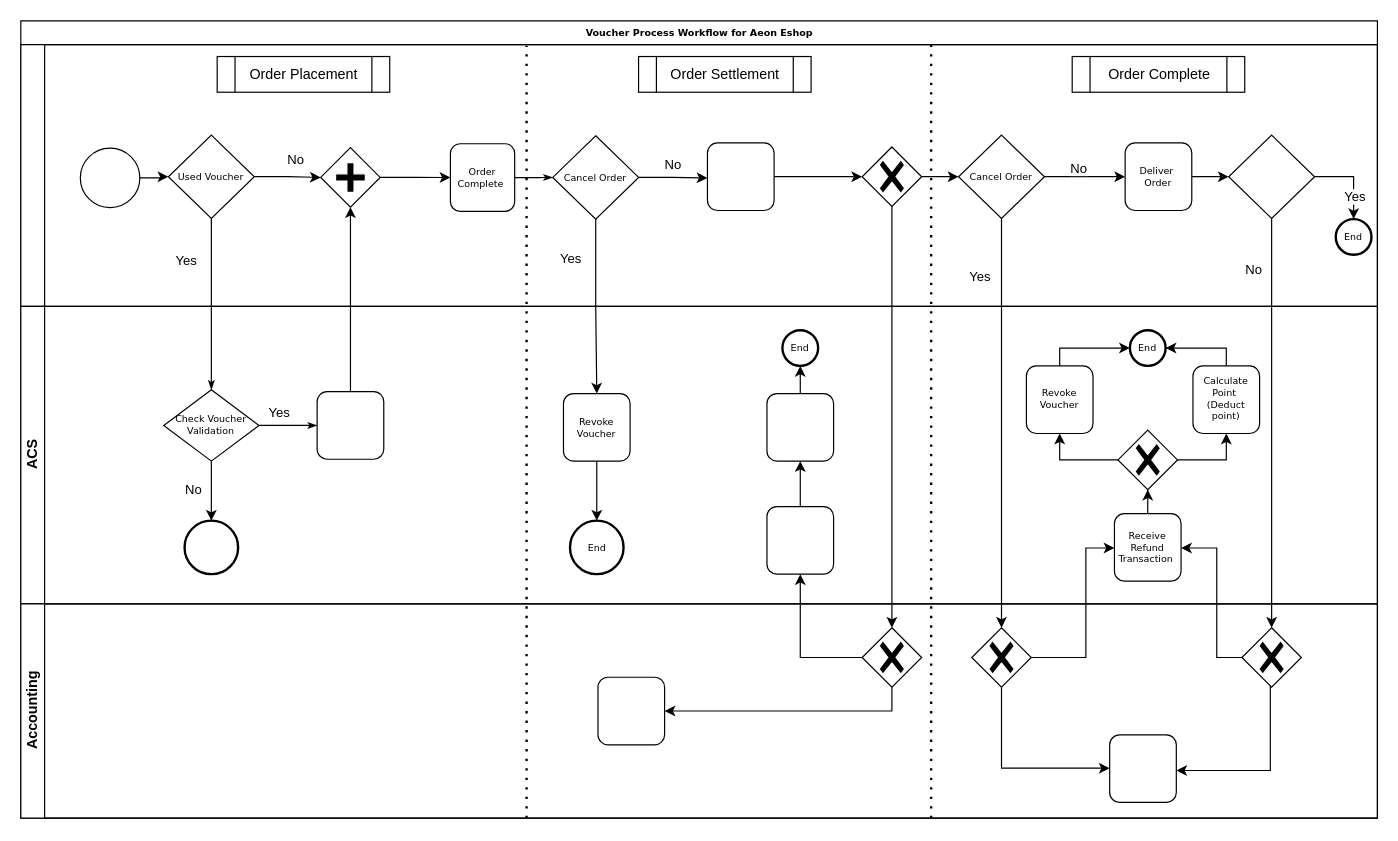
This 1398x841 diagram has some shape labels left out. The box of each missing label's shape, as (x1, y1, x2, y2) in pixels:
Aeon Eshop: (20, 43, 1377, 306)
Calculate Point (Add point): (766, 392, 834, 461)
Complete Order: (1227, 134, 1315, 218)
In Transit: (706, 142, 774, 211)
Receive Purchase Transaction: (766, 505, 834, 574)
Receive Refund file: (1108, 734, 1176, 802)
Receive Sales file: (597, 676, 665, 745)
Start: (79, 147, 140, 208)
Warning: (183, 519, 239, 575)
Write off Voucher: (316, 390, 384, 459)
